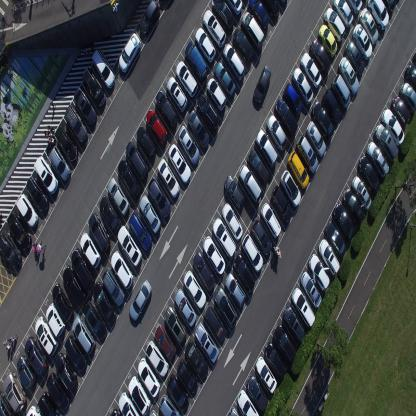car: (117, 224, 142, 267), (2, 370, 27, 413), (71, 248, 95, 292), (194, 322, 219, 364), (6, 211, 32, 251), (147, 175, 171, 218), (62, 264, 86, 307), (93, 280, 116, 324), (214, 286, 238, 328), (192, 250, 216, 292), (212, 217, 236, 259), (92, 47, 116, 89), (184, 40, 208, 82), (332, 202, 356, 244), (129, 279, 152, 322), (137, 355, 160, 398), (124, 140, 148, 181), (202, 235, 226, 276), (110, 250, 134, 291), (102, 267, 126, 308), (82, 66, 106, 107), (254, 128, 278, 169), (34, 316, 58, 357), (274, 97, 298, 138), (291, 287, 315, 328), (117, 158, 140, 200), (88, 212, 111, 254), (168, 142, 191, 184), (157, 157, 180, 199), (84, 300, 108, 340), (73, 86, 97, 126), (238, 163, 262, 203), (128, 375, 152, 415), (374, 122, 398, 162), (55, 352, 78, 393), (202, 9, 226, 48), (34, 155, 58, 194), (24, 336, 48, 375), (54, 125, 79, 162), (177, 124, 199, 166), (154, 90, 177, 130), (129, 210, 152, 250), (107, 176, 130, 216), (174, 288, 197, 328), (118, 32, 141, 72), (64, 103, 87, 143), (51, 283, 74, 323), (72, 314, 95, 354), (240, 10, 263, 50), (185, 340, 208, 380), (25, 175, 49, 213), (145, 340, 169, 378), (99, 194, 121, 235), (242, 233, 264, 274), (250, 216, 272, 257), (139, 194, 161, 235), (188, 109, 210, 150), (0, 228, 22, 269), (358, 154, 380, 195), (233, 253, 256, 292), (183, 270, 206, 309), (213, 60, 236, 99), (311, 100, 334, 139), (274, 323, 296, 363), (154, 324, 176, 364), (296, 134, 318, 174), (255, 355, 277, 395), (264, 341, 286, 381), (343, 187, 365, 227), (64, 335, 87, 373), (175, 60, 198, 98), (197, 93, 220, 131), (222, 43, 245, 81), (166, 374, 189, 412), (324, 220, 347, 258), (366, 141, 389, 179), (145, 107, 167, 146), (164, 305, 186, 344), (221, 202, 243, 241), (291, 66, 313, 105), (48, 145, 71, 182), (247, 148, 270, 185), (46, 372, 69, 409), (381, 108, 404, 145), (283, 304, 305, 342), (266, 114, 288, 152), (287, 151, 309, 189), (300, 270, 322, 308), (272, 183, 292, 224), (247, 374, 268, 413), (204, 304, 226, 341), (224, 174, 246, 211), (166, 75, 188, 112), (194, 26, 216, 63), (309, 38, 331, 75), (308, 253, 330, 290), (350, 175, 372, 212), (339, 56, 359, 96), (261, 201, 282, 239), (80, 231, 101, 269), (253, 64, 272, 106), (301, 51, 322, 89), (280, 168, 301, 206), (319, 238, 340, 276), (176, 358, 198, 394), (306, 119, 326, 158), (135, 125, 156, 162), (16, 193, 38, 228), (359, 7, 379, 45), (225, 272, 246, 308), (233, 27, 254, 63), (15, 354, 36, 390), (324, 6, 346, 40), (322, 87, 342, 124), (139, 0, 160, 35), (345, 40, 365, 76), (353, 23, 372, 60), (318, 23, 338, 58), (330, 74, 350, 109), (212, 0, 235, 30), (247, 0, 270, 30), (367, 0, 389, 31), (206, 77, 226, 111), (283, 83, 303, 117), (46, 302, 65, 337), (332, 0, 354, 29), (390, 96, 410, 127), (237, 389, 260, 415), (117, 390, 140, 415), (37, 392, 60, 415), (399, 82, 415, 113), (158, 394, 180, 416), (260, 0, 281, 18), (0, 387, 13, 415), (405, 62, 416, 92), (223, 0, 242, 15), (345, 0, 363, 15), (25, 404, 42, 415), (383, 0, 396, 14), (109, 407, 122, 415), (228, 407, 240, 415), (278, 0, 288, 8), (148, 409, 160, 415), (412, 52, 416, 64)
